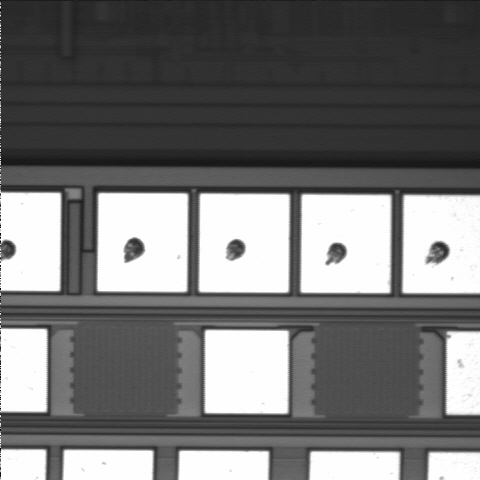pad: (97, 193, 188, 292), (199, 194, 289, 293), (301, 195, 391, 293), (205, 330, 288, 414)
